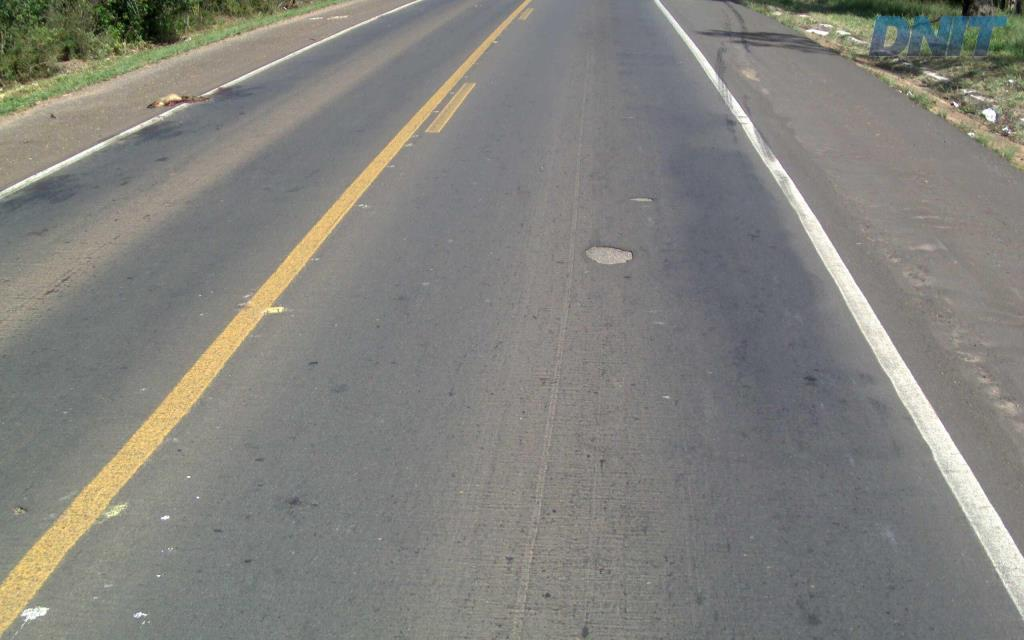pothole: (577, 237, 641, 271), (626, 191, 656, 207)
